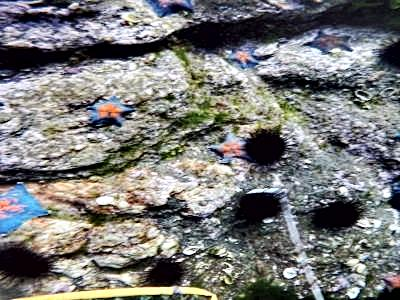urchin: (2, 245, 50, 276), (314, 198, 352, 225), (147, 259, 183, 287), (250, 129, 282, 158), (244, 193, 276, 217), (382, 38, 397, 70)
